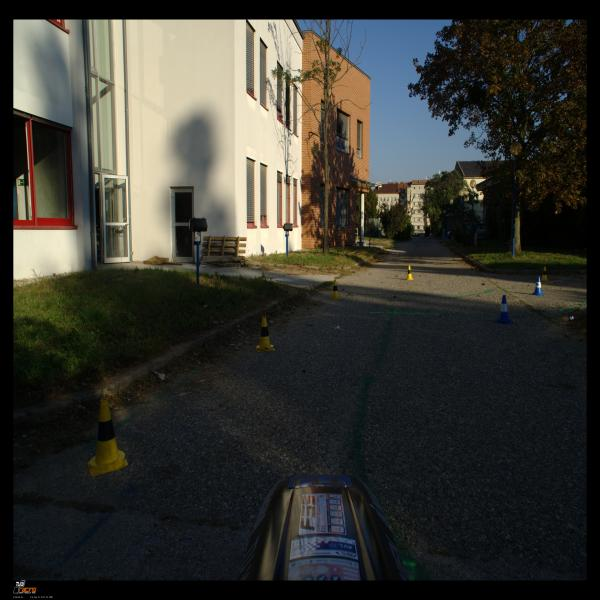blue_cone: (494, 295, 513, 324), (532, 276, 544, 296)
yellow_cone: (87, 398, 128, 477), (256, 316, 275, 352), (329, 280, 342, 300), (405, 265, 414, 280), (540, 267, 549, 281)
